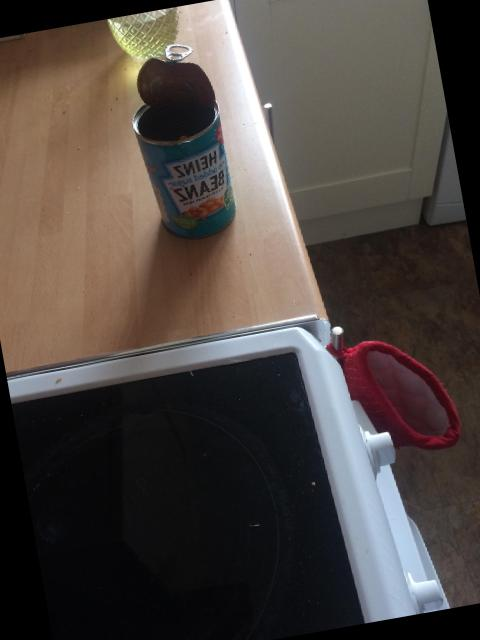metal: (132, 58, 236, 238)
